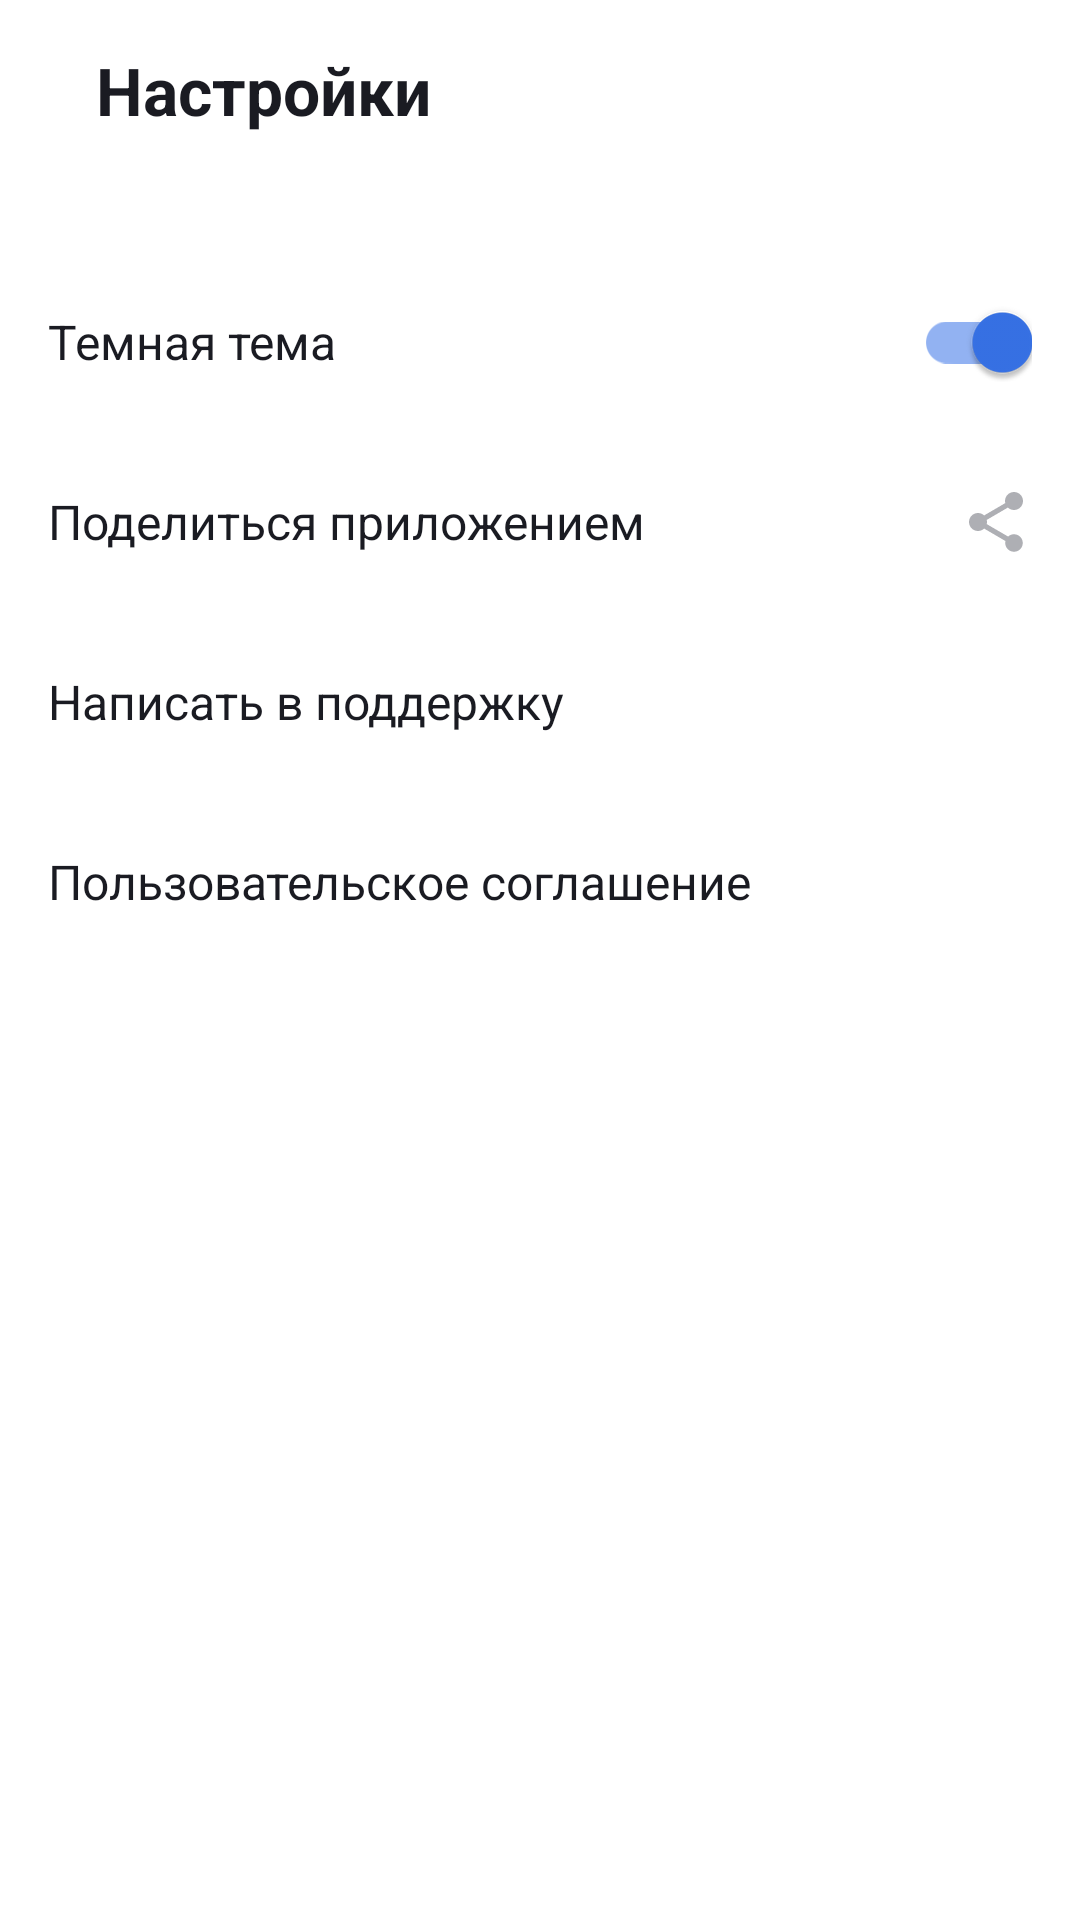

Named icons in this screenshot (1080 x 1920) and their bounding boxes, bbox=(x1, y1, x2, y2):
share: bbox=(969, 492, 1023, 552)
